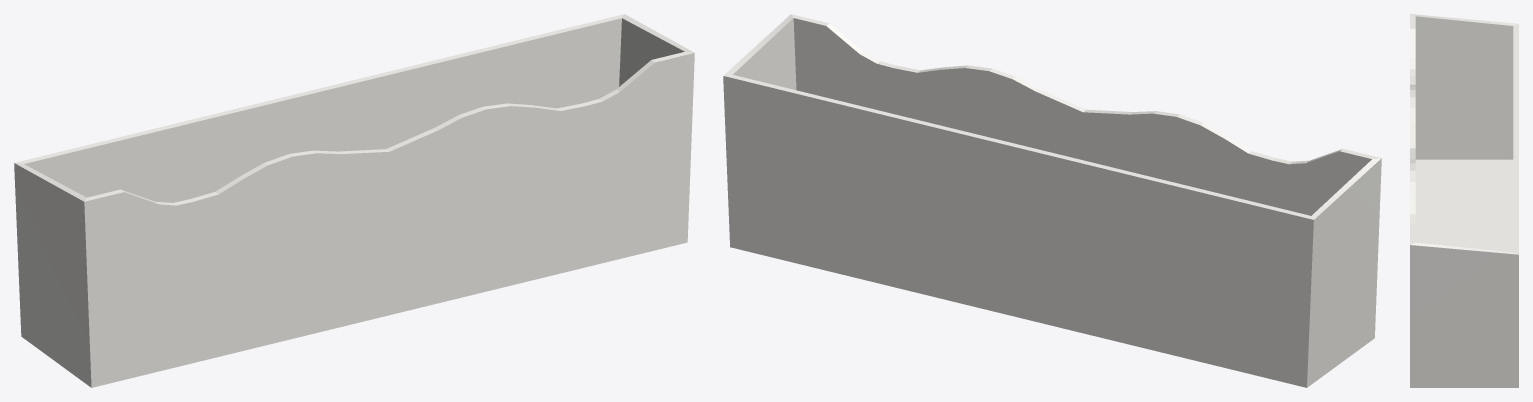
Rendered from Flower_Pot.obj.
The picture shows the model from 3 angles, left to right: view 1: azimuth 30°, elevation 25°; view 2: azimuth 150°, elevation 25°; view 3: azimuth 270°, elevation 25°; orthographic projection. The views are drawn at different scales.
Parts seen in each view (by area): view 1: Shutters.001; view 2: Shutters.001; view 3: Shutters.001.
Part boxes in pixels (x1,y1,x2,y2): Shutters.001: (14,14,694,387); Shutters.001: (723,14,1381,387); Shutters.001: (1410,14,1518,387).
Size of the model in its own units: 1.08 by 0.3188 by 0.2159.
